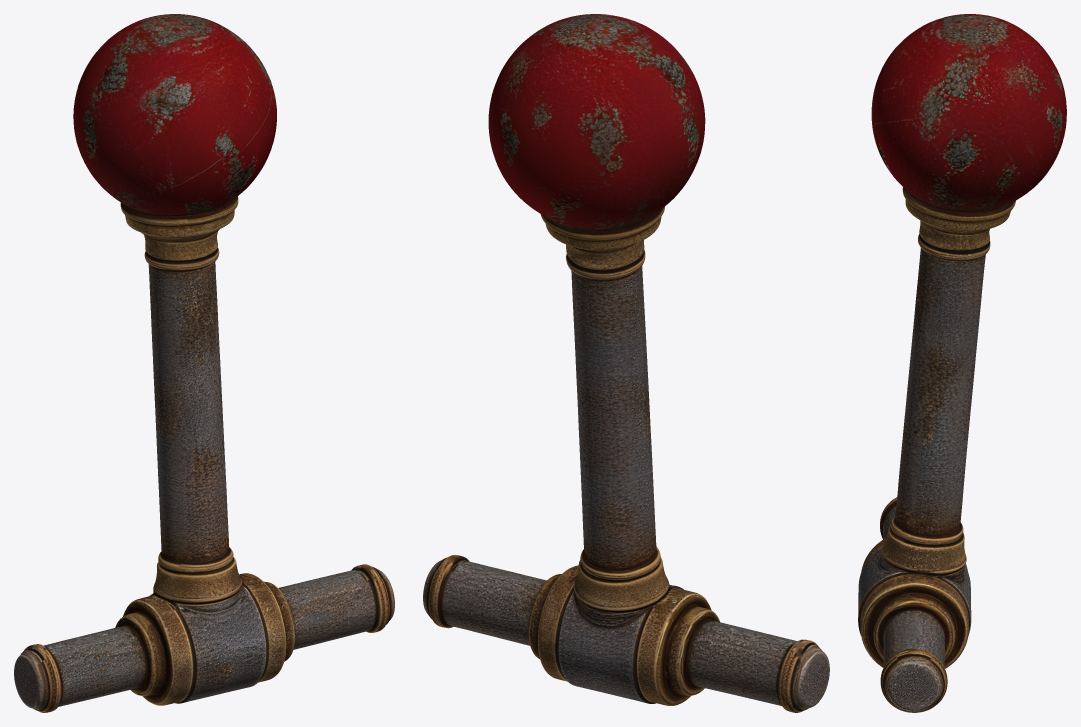
The model's file is lever.glb.
The picture shows the model from 3 angles, left to right: view 1: azimuth 30°, elevation 25°; view 2: azimuth 150°, elevation 25°; view 3: azimuth 270°, elevation 25°; orthographic projection. The views are drawn at different scales.
Visible parts, largest first — view 1: Mesh_0; view 2: Mesh_0; view 3: Mesh_0.
Part boxes in pixels (x1,y1,x2,y2): Mesh_0: (14, 14, 394, 712); Mesh_0: (423, 14, 829, 712); Mesh_0: (858, 14, 1066, 712).
Size of the model in its own units: 0.6377 by 1.1 by 0.3309.
Materials: 1 (1 with a texture image).
